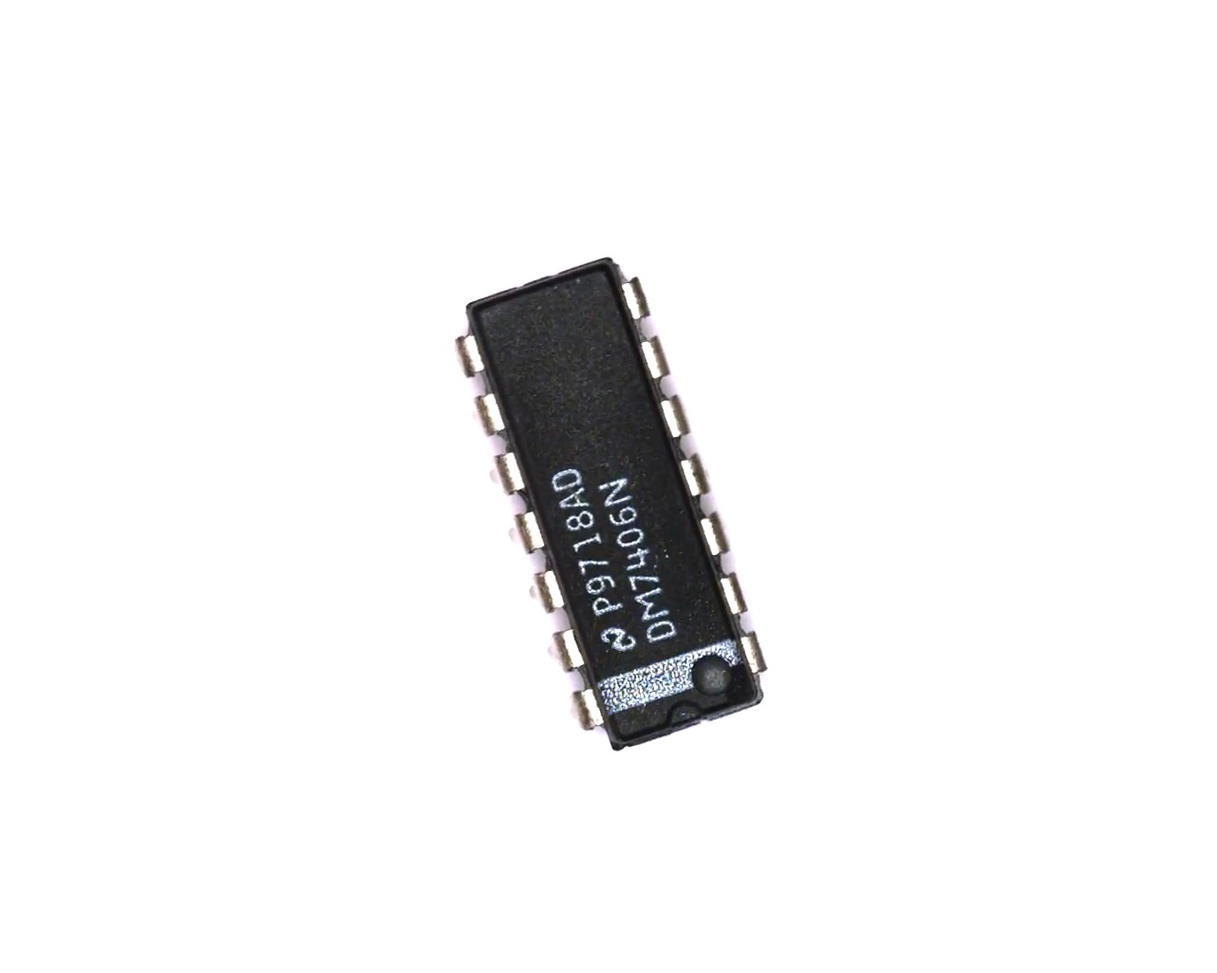IC: (427, 234, 798, 779)
notch: (661, 700, 706, 738)
